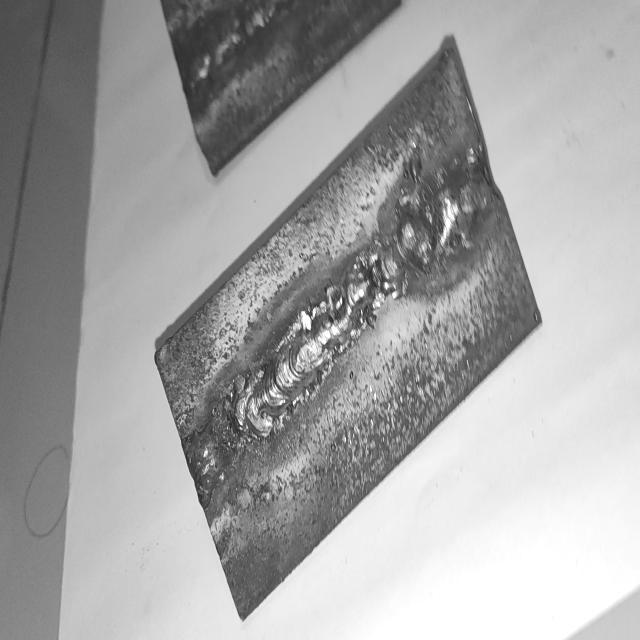Defect: (348, 156, 486, 316), (187, 381, 262, 489)
Welding Line: (178, 140, 491, 509)
Workpiece: (149, 32, 547, 630)
